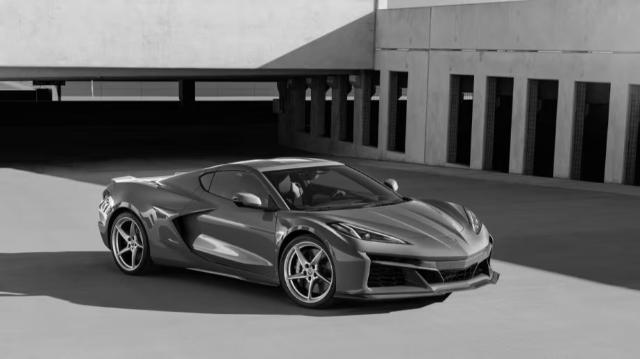sport: (82, 149, 510, 316)
